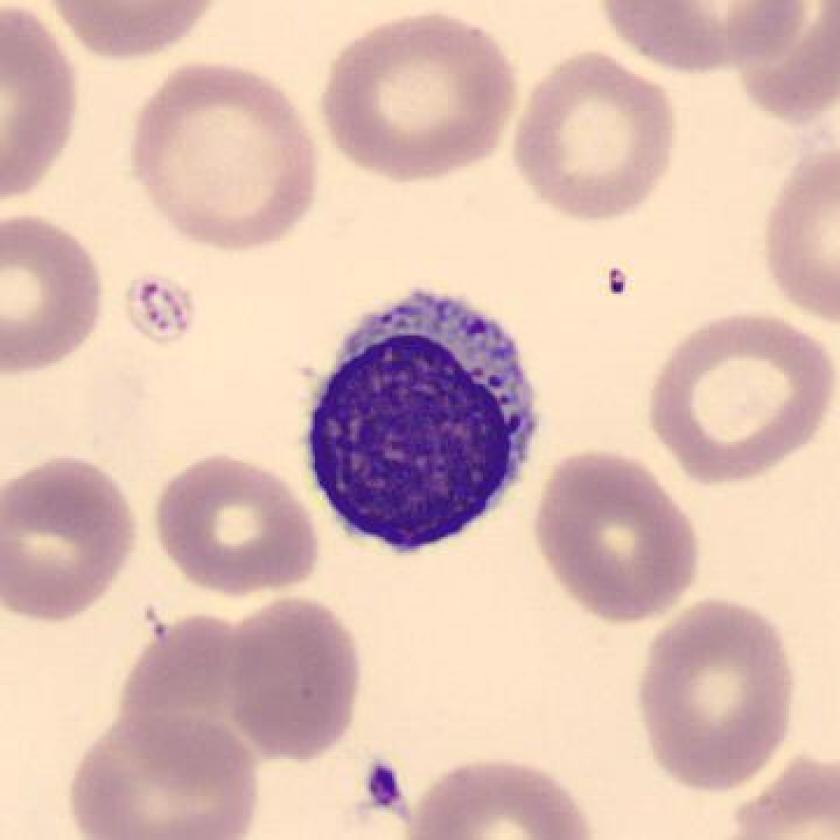lymphocyte: (290, 270, 554, 566)
platelets: (118, 269, 205, 349), (358, 756, 414, 821), (596, 261, 640, 305)
